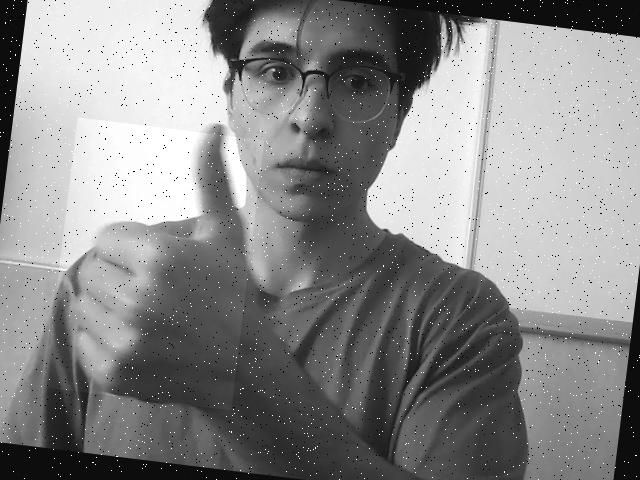good: (44, 118, 264, 410)
